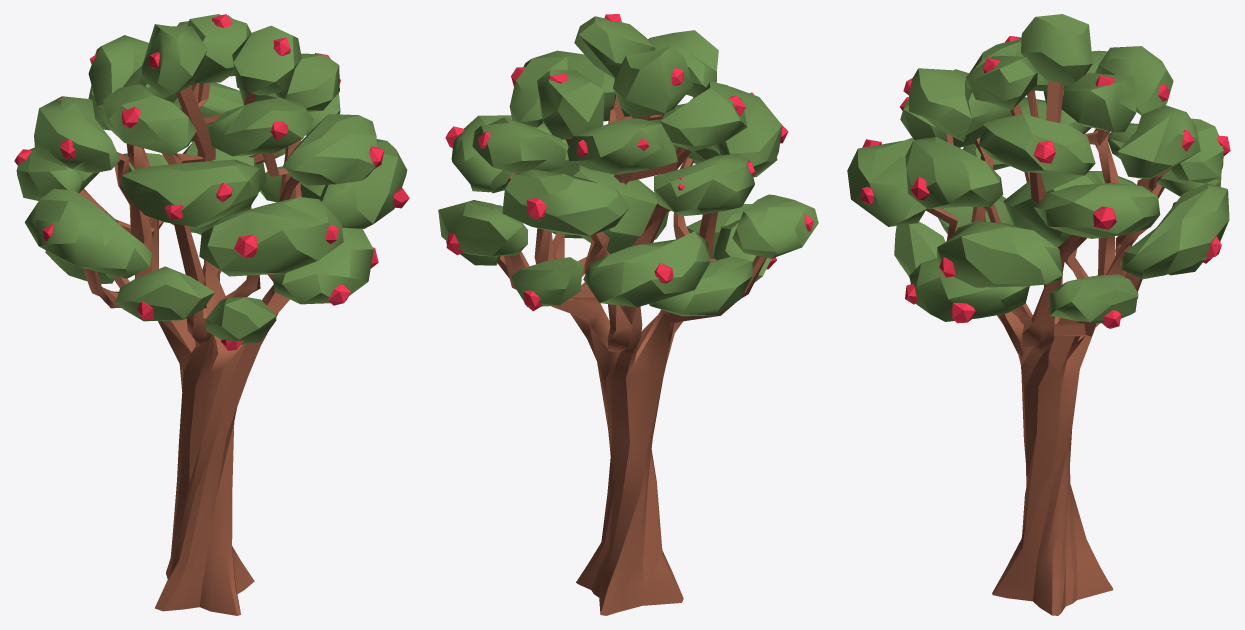
The model's file is Tree_1_High_WF.fbx.
3 renders of one model, left to right at view 1: azimuth 30°, elevation 25°; view 2: azimuth 150°, elevation 25°; view 3: azimuth 270°, elevation 25°, orthographic. The views are drawn at different scales.
Visible parts, largest first — view 1: Tree_1_High_WF; view 2: Tree_1_High_WF; view 3: Tree_1_High_WF.
Part boxes in pixels (x1=…): Tree_1_High_WF: x1=14, y1=14, x2=409, y2=615; Tree_1_High_WF: x1=438, y1=14, x2=818, y2=615; Tree_1_High_WF: x1=847, y1=14, x2=1230, y2=615.
Bounding box in the file's own units: 161 × 253 × 157.
